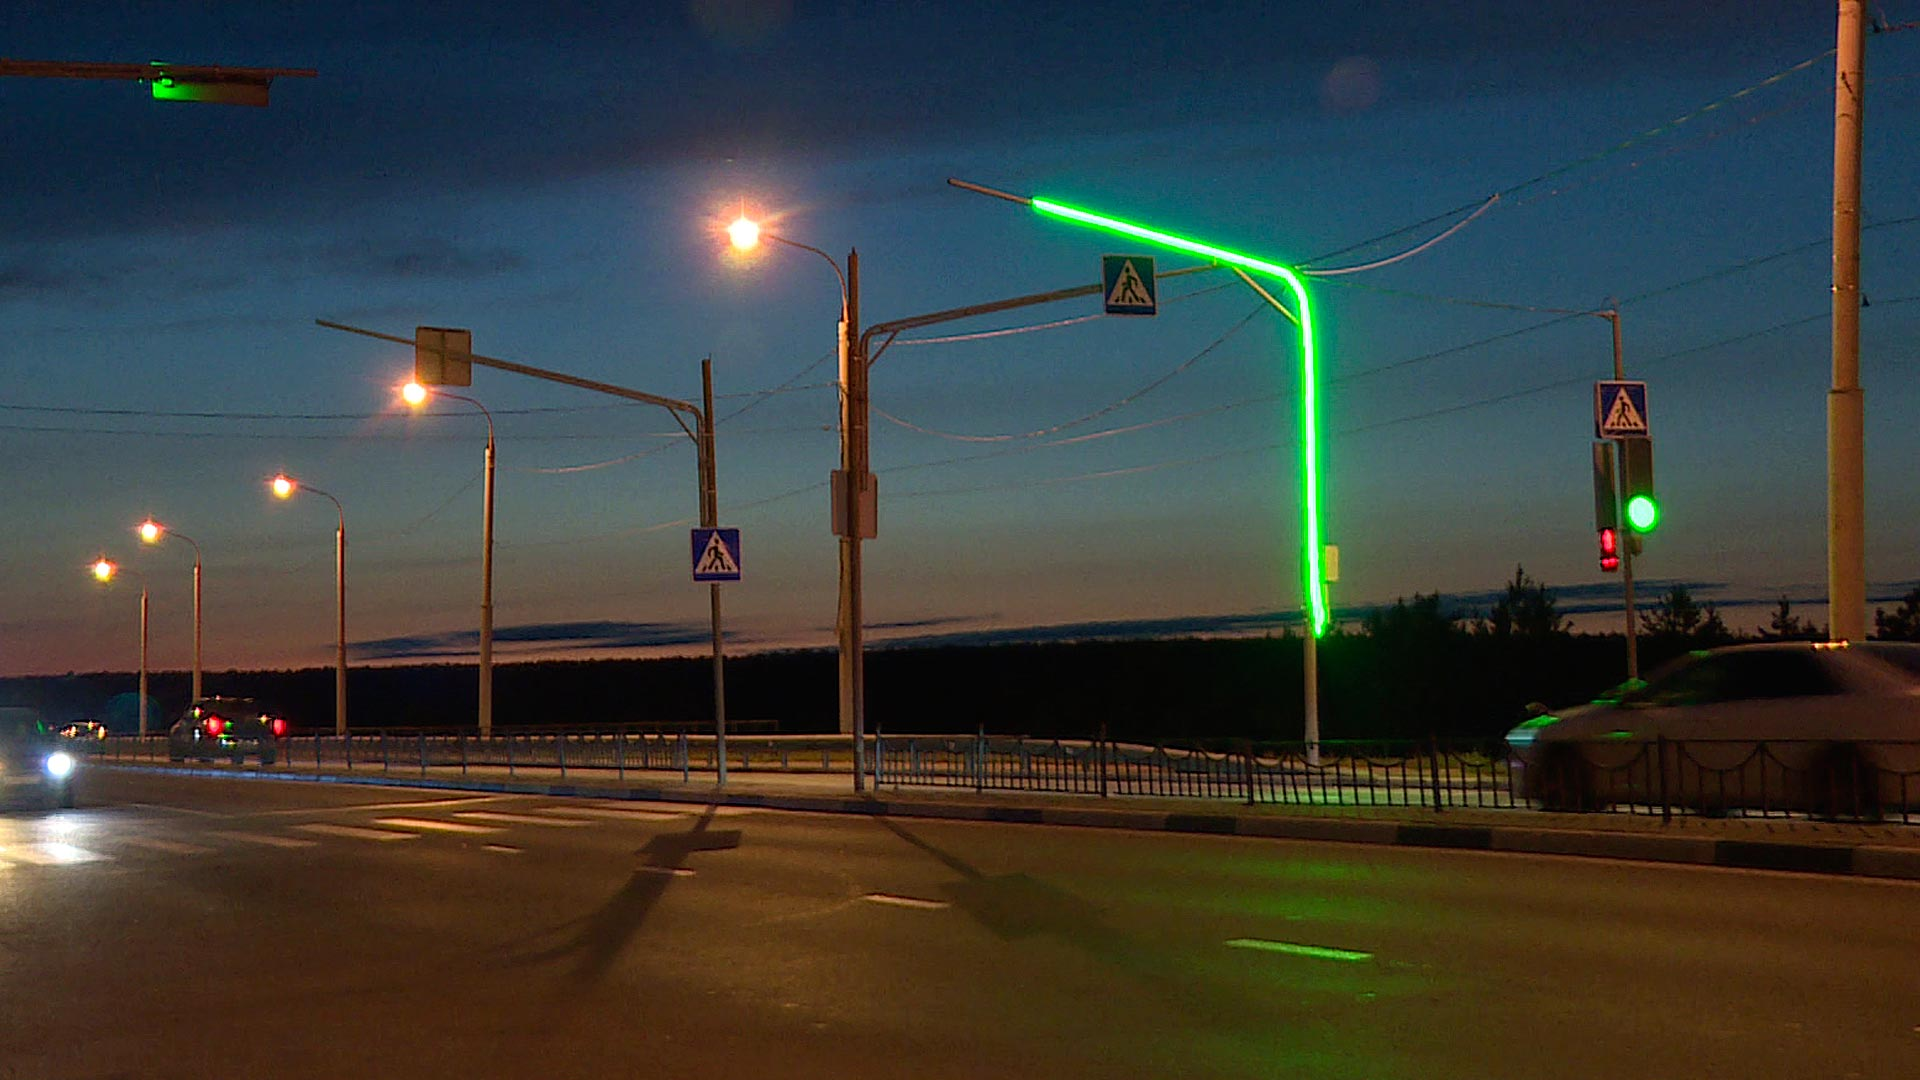tl: (1615, 433, 1664, 533)
